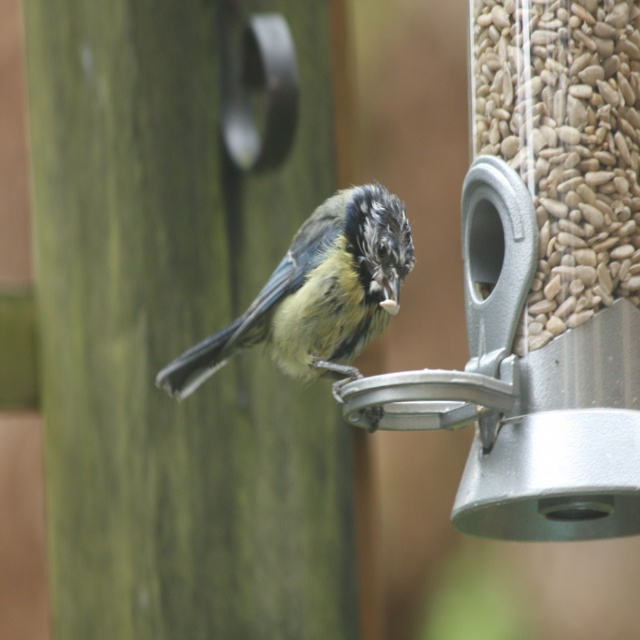Sparrow: (154, 178, 418, 404)
